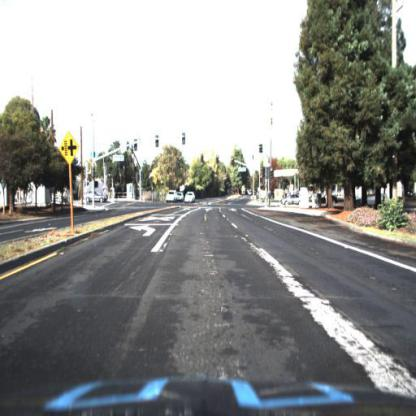biker: (161, 191, 164, 204)
car: (279, 192, 304, 208), (84, 188, 108, 203), (168, 189, 178, 205), (185, 189, 195, 205), (177, 191, 183, 203)
trafficLight-Red: (230, 156, 237, 170), (270, 167, 276, 183), (200, 152, 206, 165), (216, 155, 221, 169), (201, 155, 206, 168), (214, 153, 219, 165), (269, 166, 274, 176), (232, 155, 236, 167), (261, 173, 265, 185)
